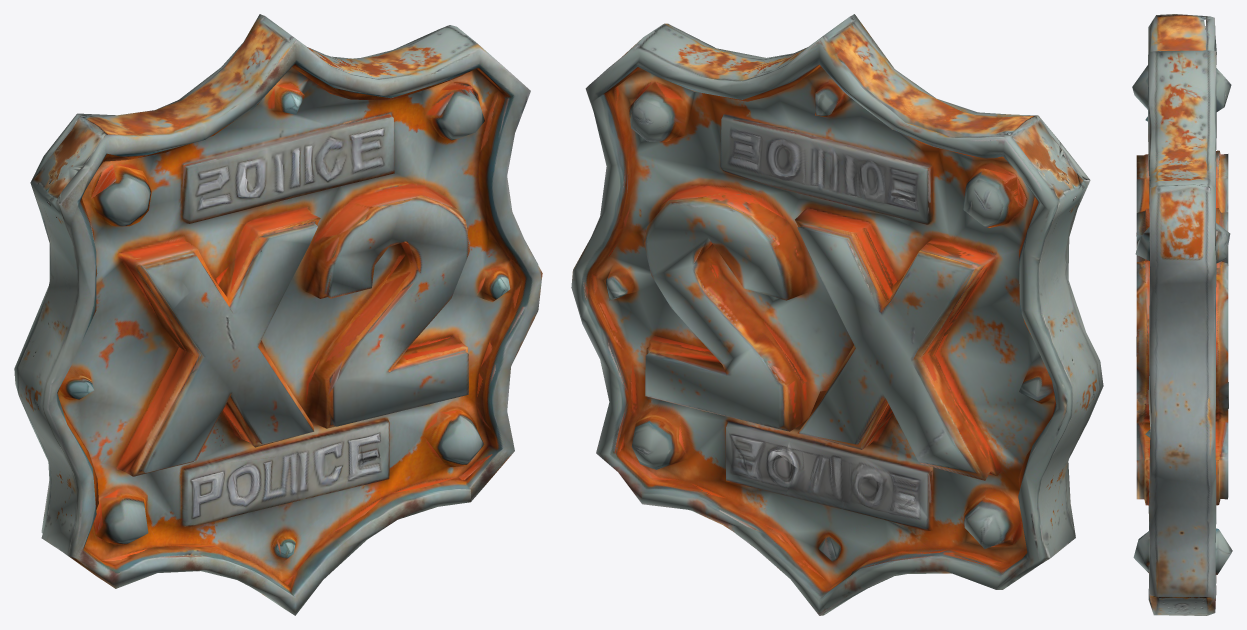
Rendered from doublePoints.glb.
3 views of the same model, side by side, from view 1: azimuth 30°, elevation 25°; view 2: azimuth 150°, elevation 25°; view 3: azimuth 270°, elevation 25° (orthographic). The views are drawn at different scales.
Size of the model in its own units: 1.81 by 2 by 0.3325.
1 material, 1 textured.
